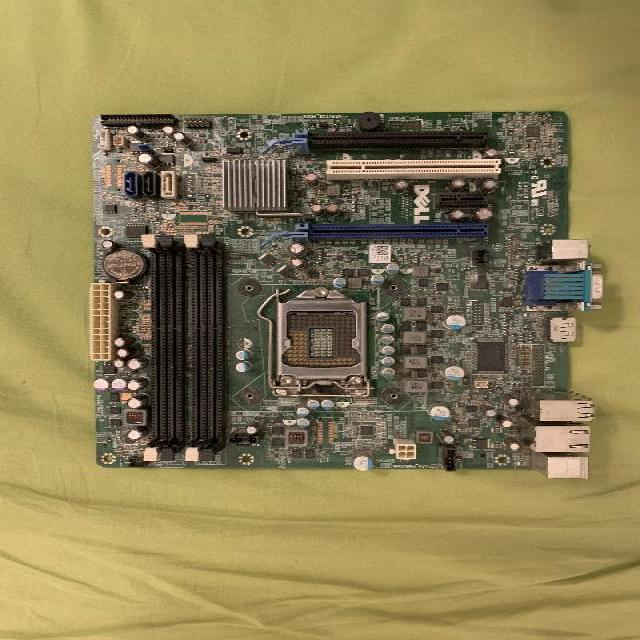Mainboard: (95, 115, 604, 480)
